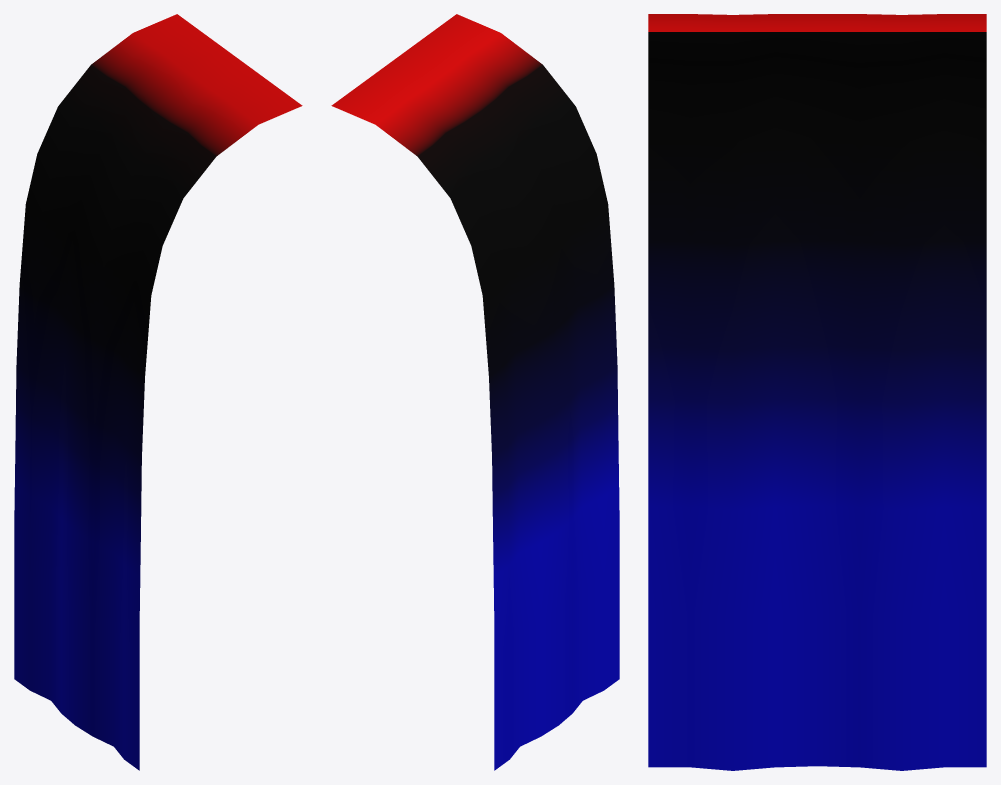
File: TSI_Waterfall_03A.fbx
3 renders of one model, left to right at view 1: azimuth 30°, elevation 25°; view 2: azimuth 150°, elevation 25°; view 3: azimuth 270°, elevation 25°, orthographic. The views are drawn at different scales.
Parts seen in each view (by area): view 1: TSI_Waterfall_03A; view 2: TSI_Waterfall_03A; view 3: TSI_Waterfall_03A.
Part boxes in pixels (x1=…): TSI_Waterfall_03A: x1=14, y1=14, x2=302, y2=770; TSI_Waterfall_03A: x1=331, y1=14, x2=619, y2=770; TSI_Waterfall_03A: x1=648, y1=14, x2=986, y2=770.
Size of the model in its own units: 3.03 by 11 by 4.
